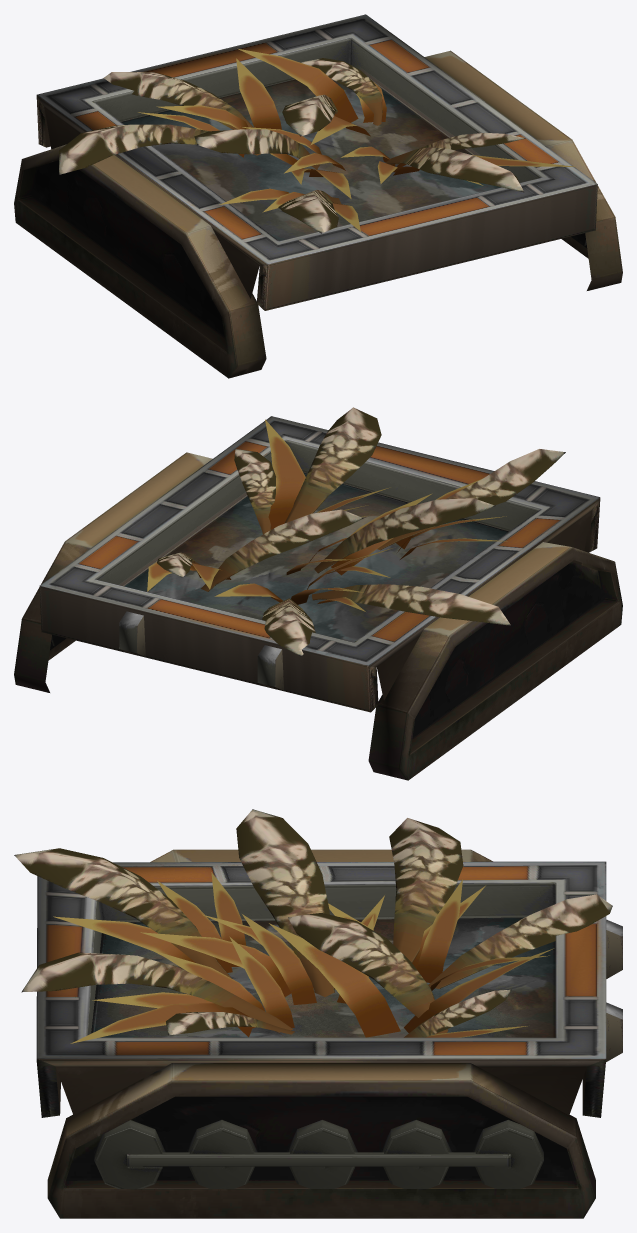
Rendered from trap_456_xbfarmm_03.fbx.
3 views of the same model, one above another, from view 1: azimuth 30°, elevation 25°; view 2: azimuth 150°, elevation 25°; view 3: azimuth 270°, elevation 25° (orthographic). The views are drawn at different scales.
Parts seen in each view (by area): view 1: trap_456_xbfarmm_03; view 2: trap_456_xbfarmm_03; view 3: trap_456_xbfarmm_03.
Boxes of the visible parts, x1,y1,x2,y2 form: trap_456_xbfarmm_03: (14, 14, 622, 378); trap_456_xbfarmm_03: (14, 407, 622, 780); trap_456_xbfarmm_03: (14, 809, 622, 1218).
Bounding box in the file's own units: 1.05 × 0.4011 × 1.06.
Materials: 1 (1 with a texture image).
